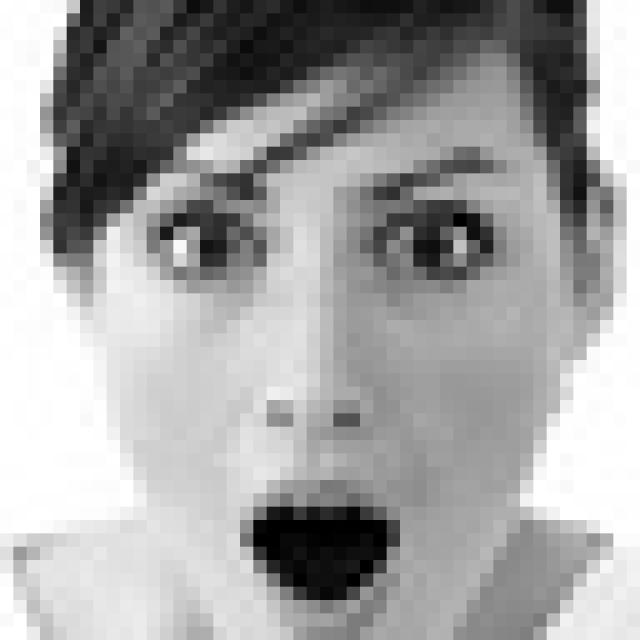surprise: (140, 145, 513, 640)
